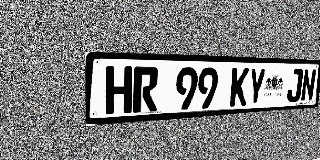9: (175, 67, 198, 110), (197, 67, 219, 109)
H: (105, 66, 133, 115)
J: (286, 69, 303, 103)
K: (229, 68, 249, 106)
N: (300, 69, 316, 102)
R: (133, 67, 159, 113)
Y: (247, 68, 266, 105)
